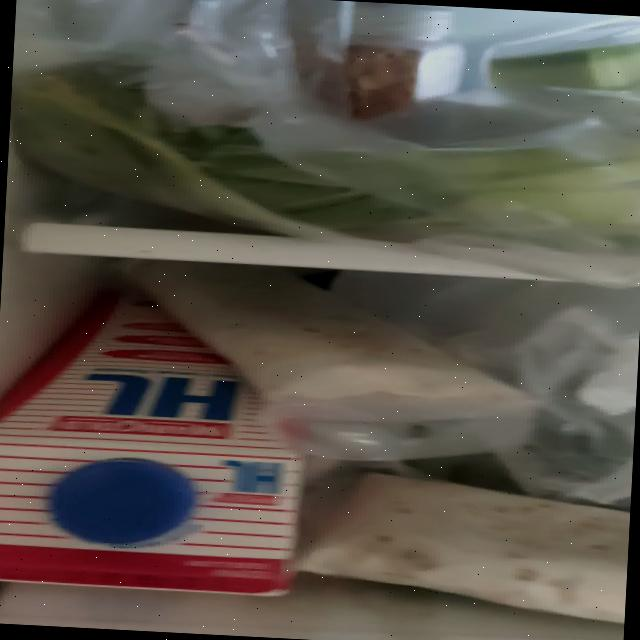tempeh: (104, 256, 542, 414), (289, 468, 632, 624)
